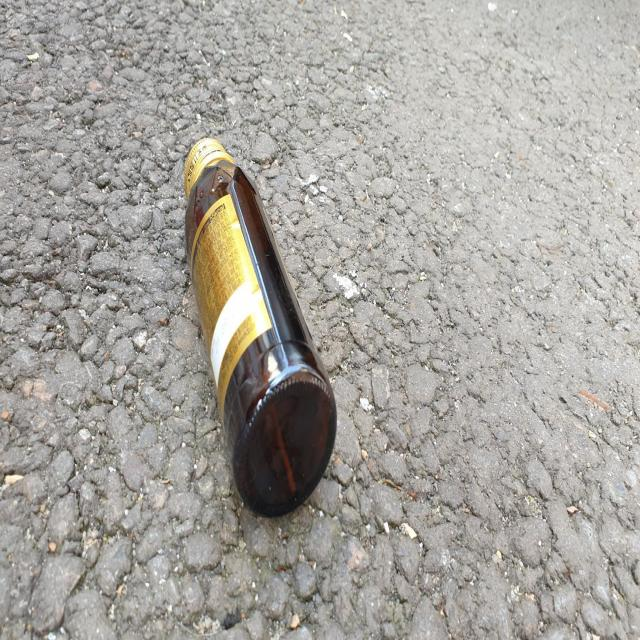glass: (184, 136, 337, 516)
